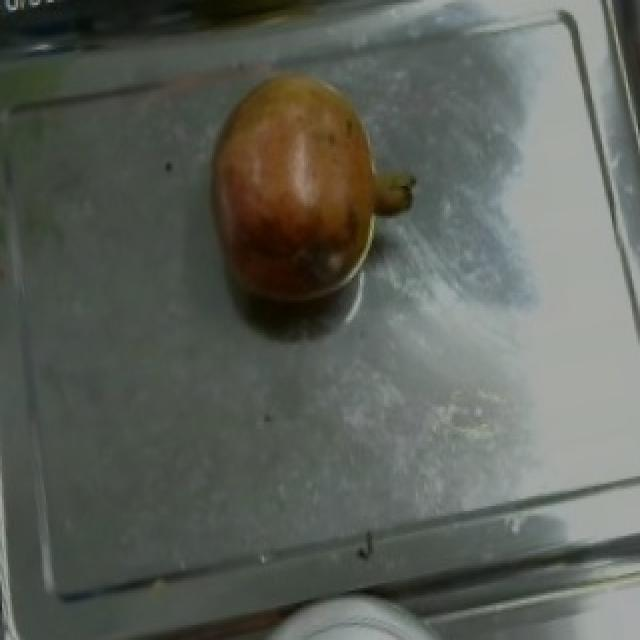fruit: (190, 52, 432, 320)
